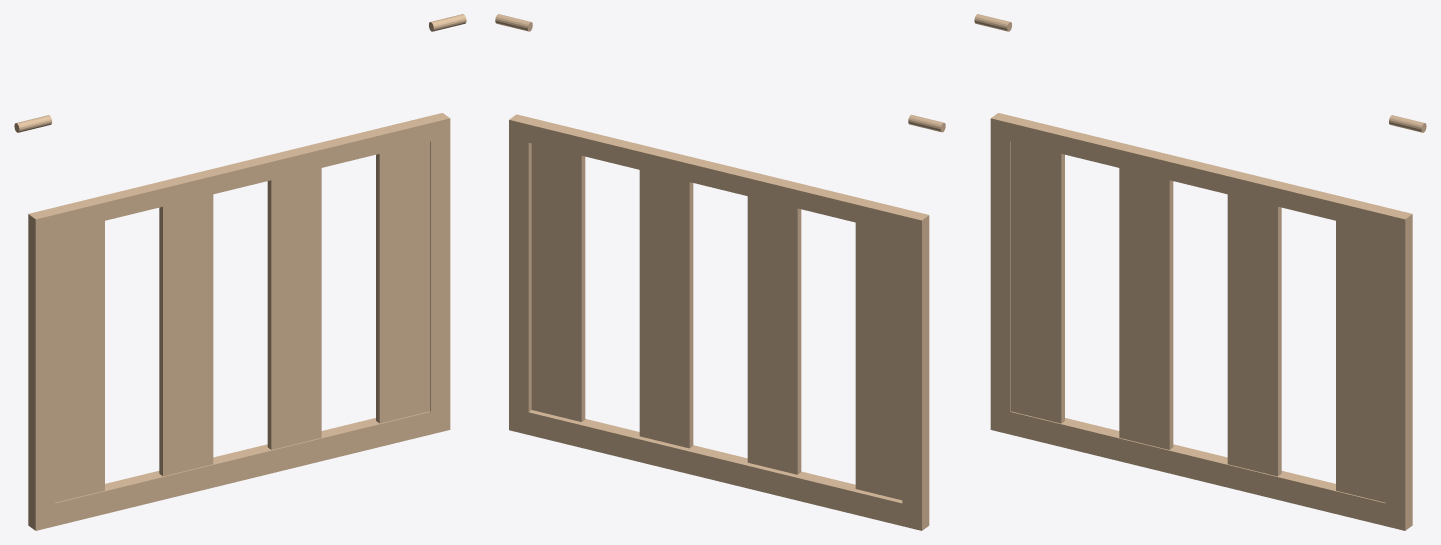
File: seat.glb
The picture shows the model from 3 angles, left to right: view 1: azimuth 30°, elevation 25°; view 2: azimuth 150°, elevation 25°; view 3: azimuth 330°, elevation 25°; orthographic projection.
Visible parts, largest first — view 1: seat.001; view 2: seat.001; view 3: seat.001.
Boxes of the visible parts, bbox=[...] form: seat.001: bbox=[14, 14, 466, 530]; seat.001: bbox=[495, 14, 945, 530]; seat.001: bbox=[974, 14, 1426, 530].
Bounding box in the file's own units: 0.41 × 0.359 × 0.012.
